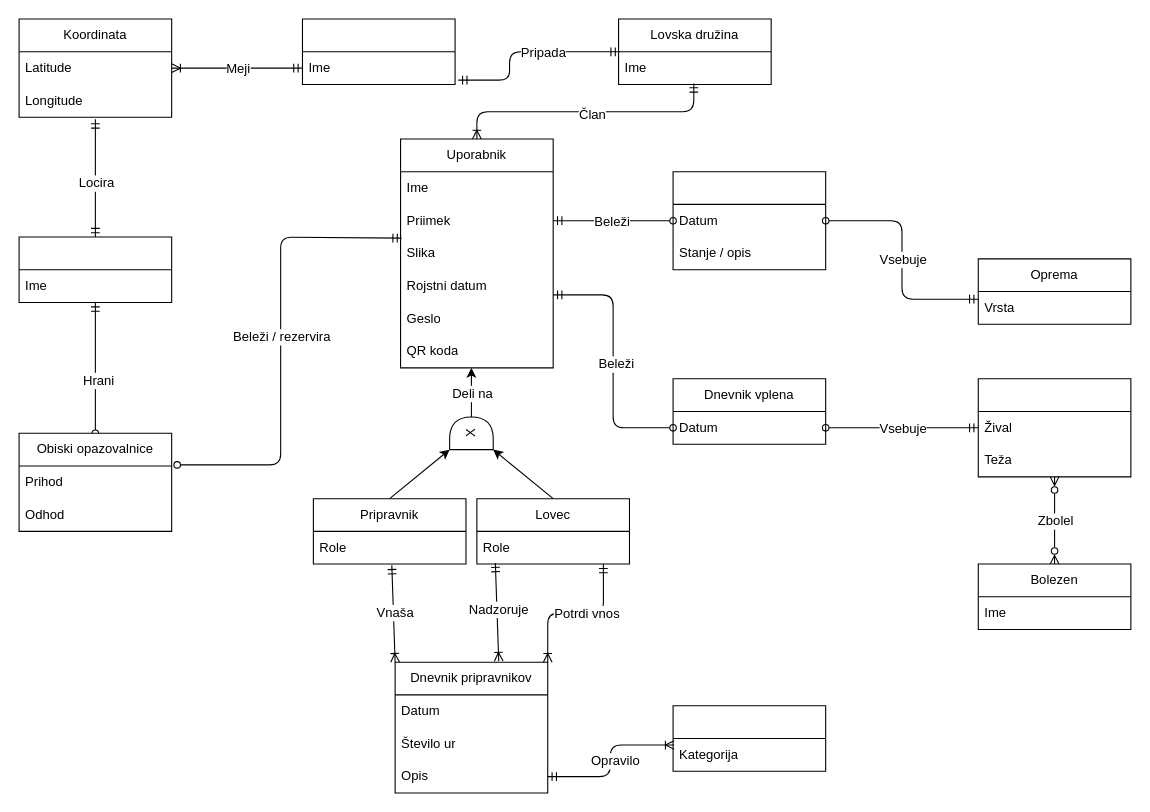
Some shapes in this 1150 by 812 pixel diagram are drawn without their labels. Here are the shapes that lost their labels. From the top down, the box of each, then its label:
(301, 18, 455, 84): Revir
(672, 171, 826, 270): Dnevnik opreme
(18, 236, 172, 302): Opazovalnica
(977, 378, 1131, 477): Vplen
(672, 705, 826, 771): Delo
